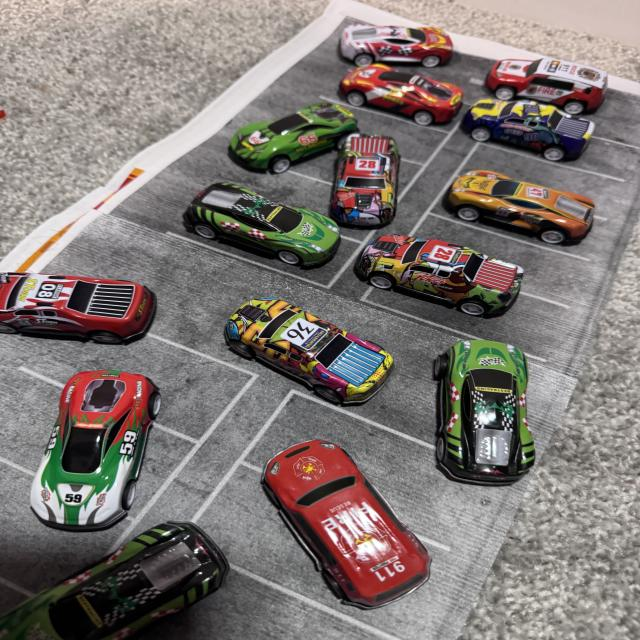car: (0, 510, 282, 640), (200, 274, 444, 420), (258, 438, 442, 601), (418, 338, 583, 500), (342, 227, 569, 335), (161, 184, 361, 273), (424, 157, 592, 261), (49, 369, 143, 526), (197, 85, 358, 171), (439, 106, 640, 170), (0, 271, 167, 346), (308, 121, 409, 239), (330, 12, 486, 69), (345, 66, 476, 132), (474, 51, 620, 106)
